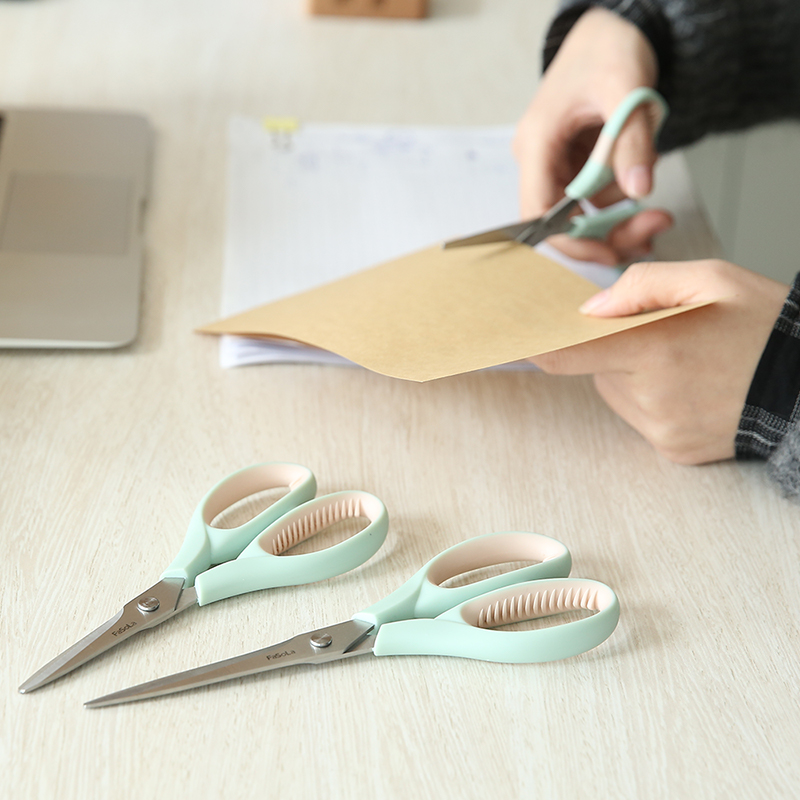scissors: (80, 533, 633, 712), (8, 457, 394, 705), (407, 83, 669, 259)
